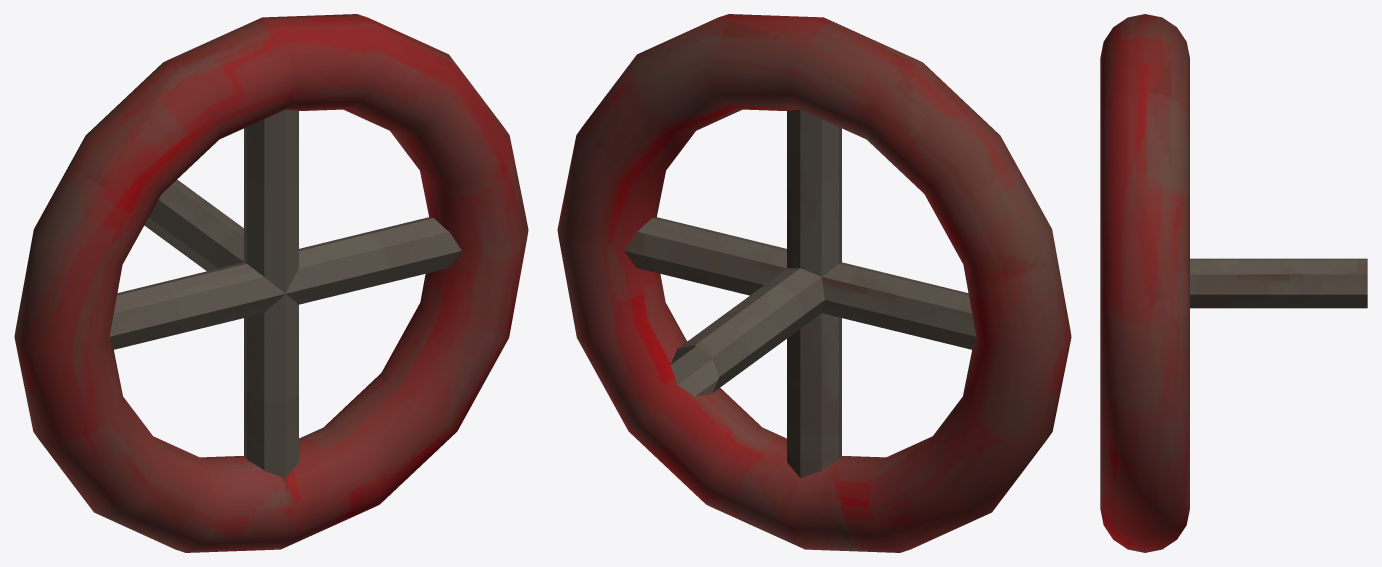
File: SM_Knob.fbx
3 renders of one model, left to right at view 1: azimuth 30°, elevation 25°; view 2: azimuth 150°, elevation 25°; view 3: azimuth 270°, elevation 25°, orthographic. The views are drawn at different scales.
Parts seen in each view (by area): view 1: SM_Knob; view 2: SM_Knob; view 3: SM_Knob.
Boxes of the visible parts, x1,y1,x2,y2 form: SM_Knob: (14,14,528,552); SM_Knob: (557,14,1071,552); SM_Knob: (1100,14,1367,552).
Size of the model in its own units: 1.1 by 1.1 by 0.5468.
